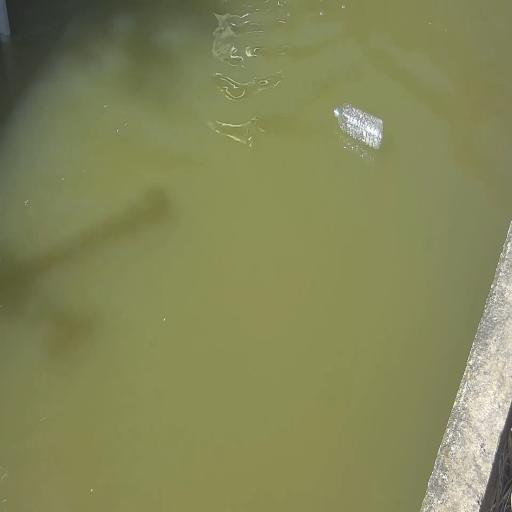plastic: (333, 103, 384, 152)
